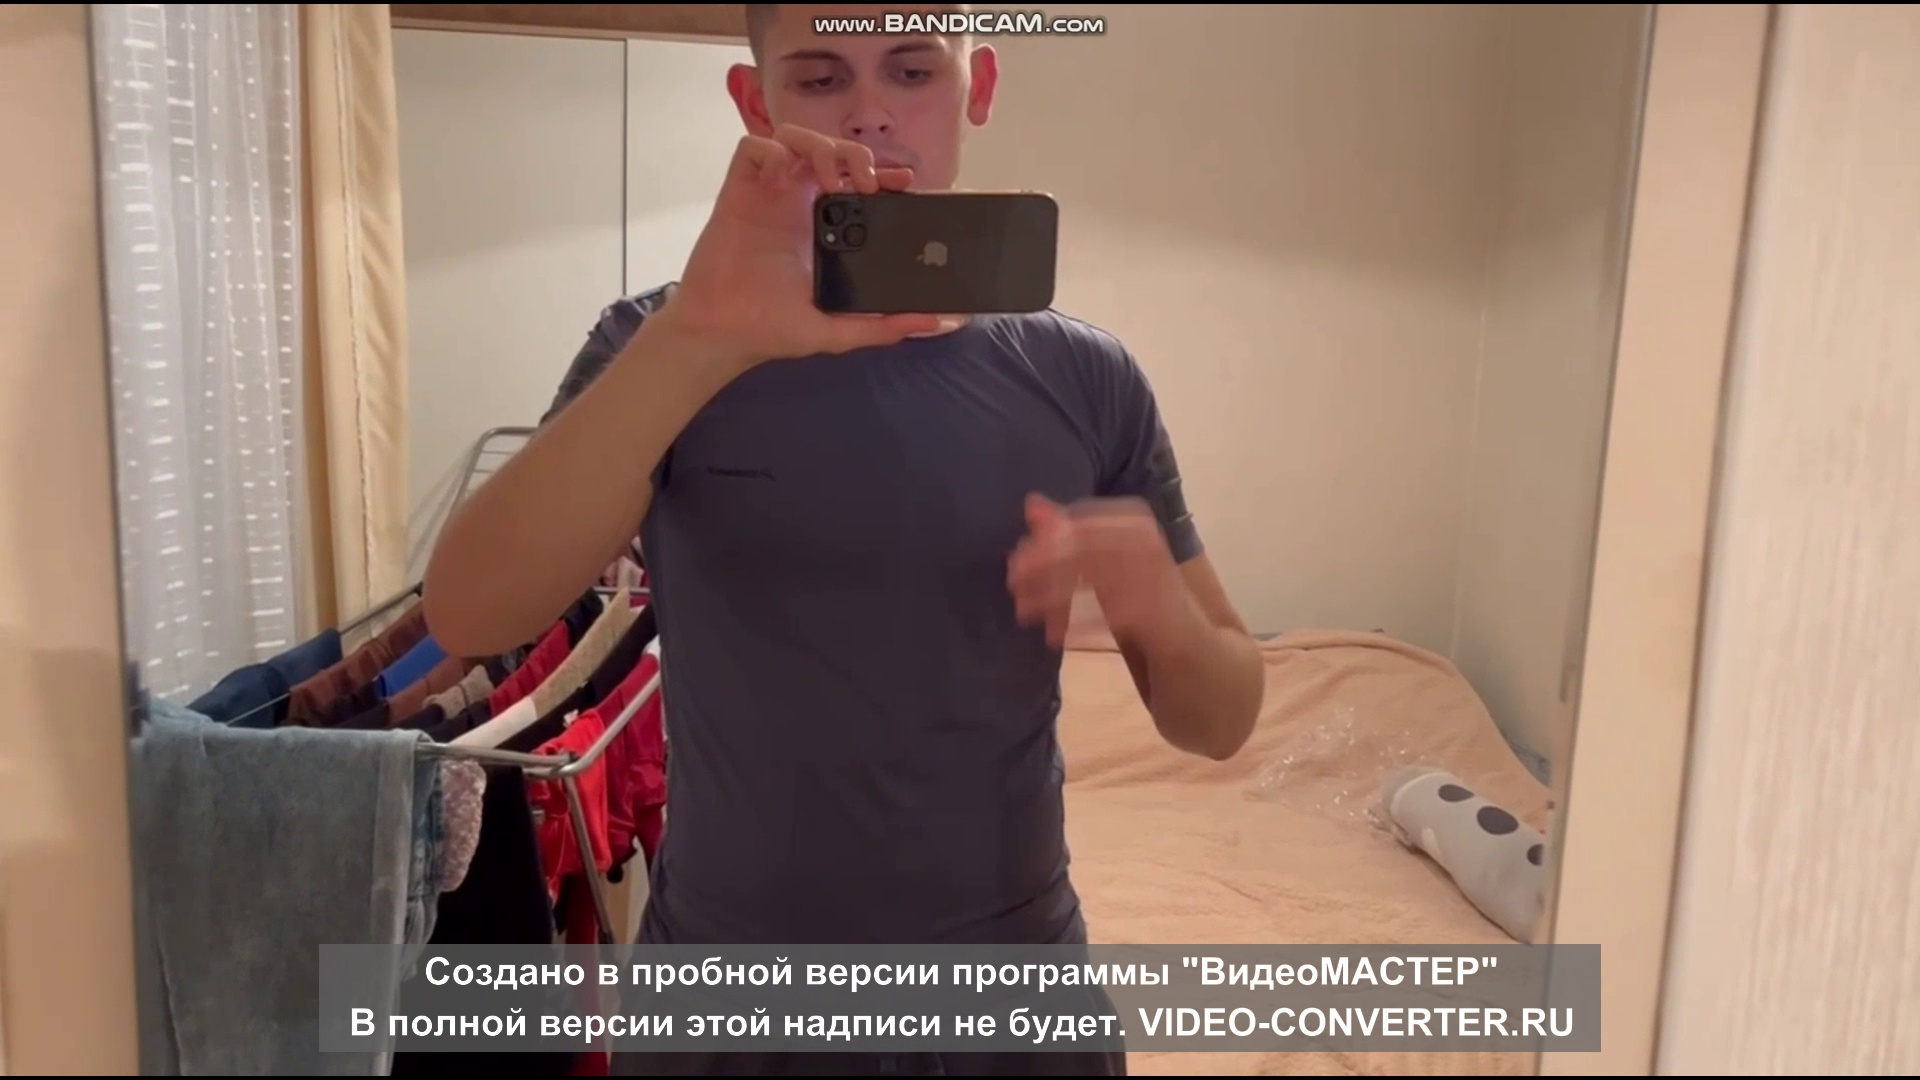Кисть: (998, 492, 1174, 645)
